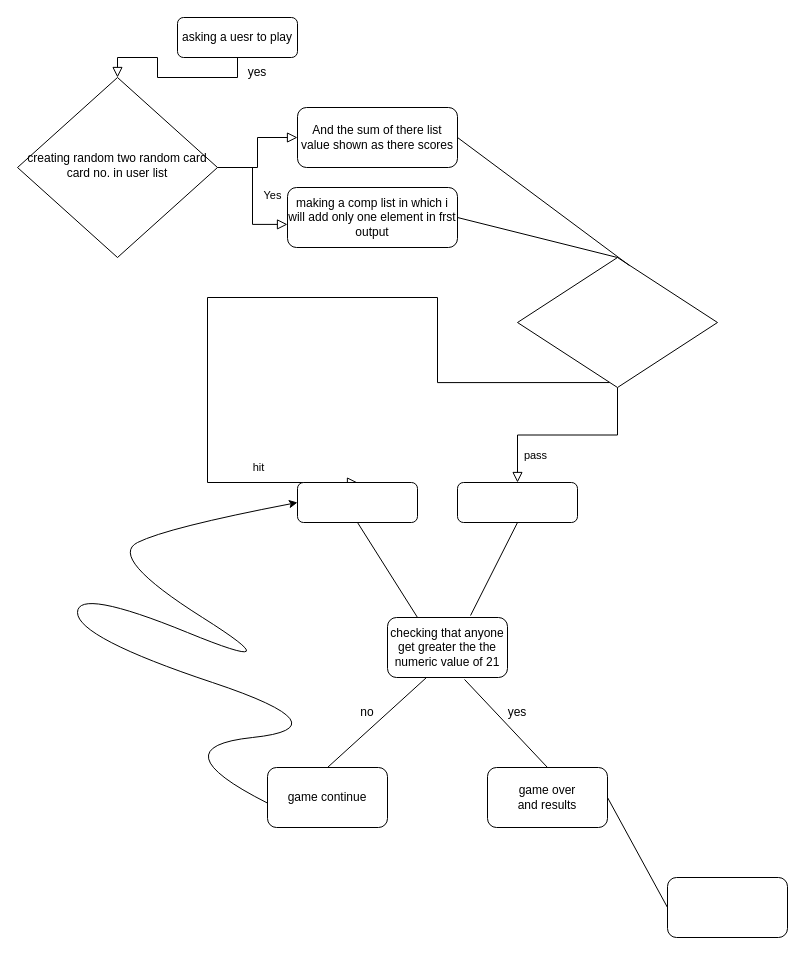
This 805x955 diagram has some shape labels left out. Each missing label, with the centre of its shape:
"add one more card in user" belongs at (x=357, y=502).
"add one mre card in comp" belongs at (x=517, y=502).
"asking the user to play again" belongs at (x=727, y=907).
"asking the user to tell us that they want to hit the card or pass" belongs at (x=617, y=322).
